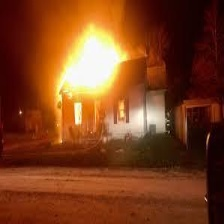fire: (49, 18, 138, 98)
